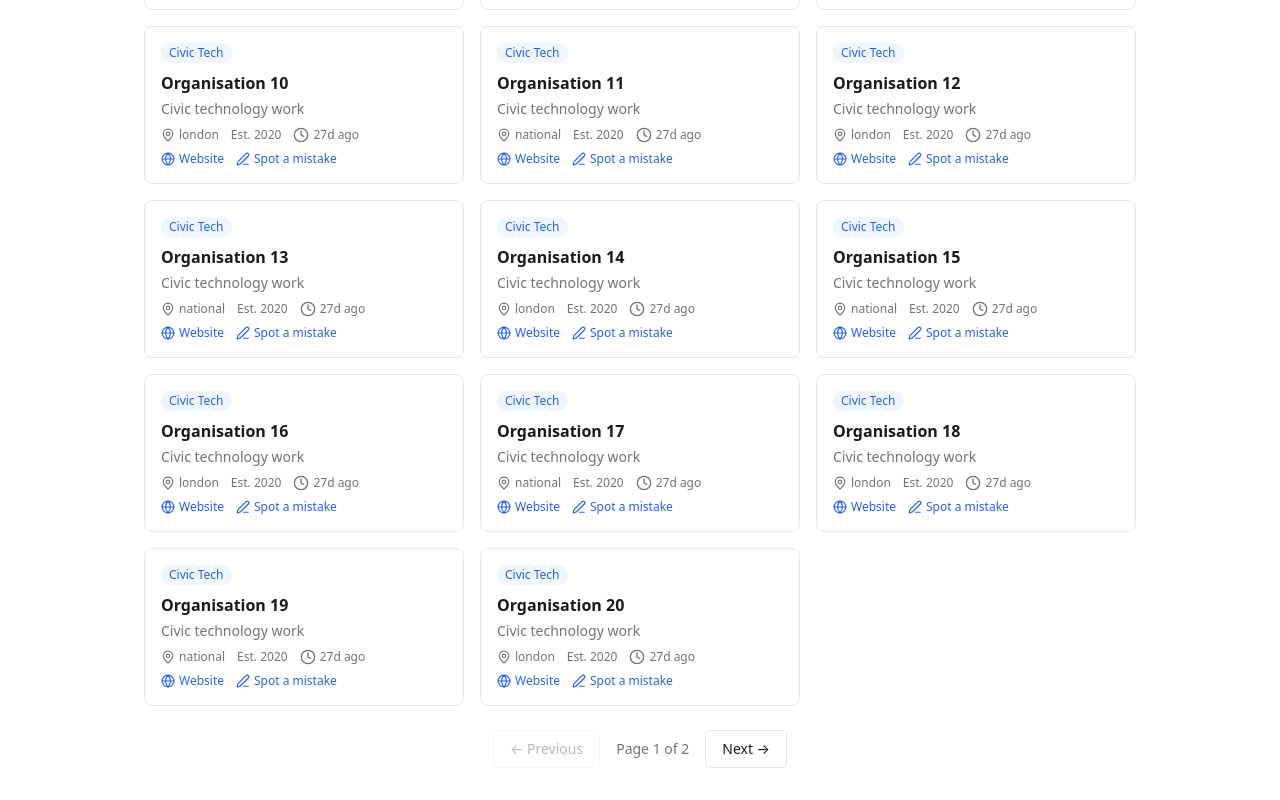
Test case: DirectoryClient › clamps a page that is now beyond the filtered results
(page scrolled)
Expected: the text "Page 1 of 2" is shown, [616,739,689,759]
Click the button "Next →" at [746, 749], box [705,730,787,768]
(page scrolled)
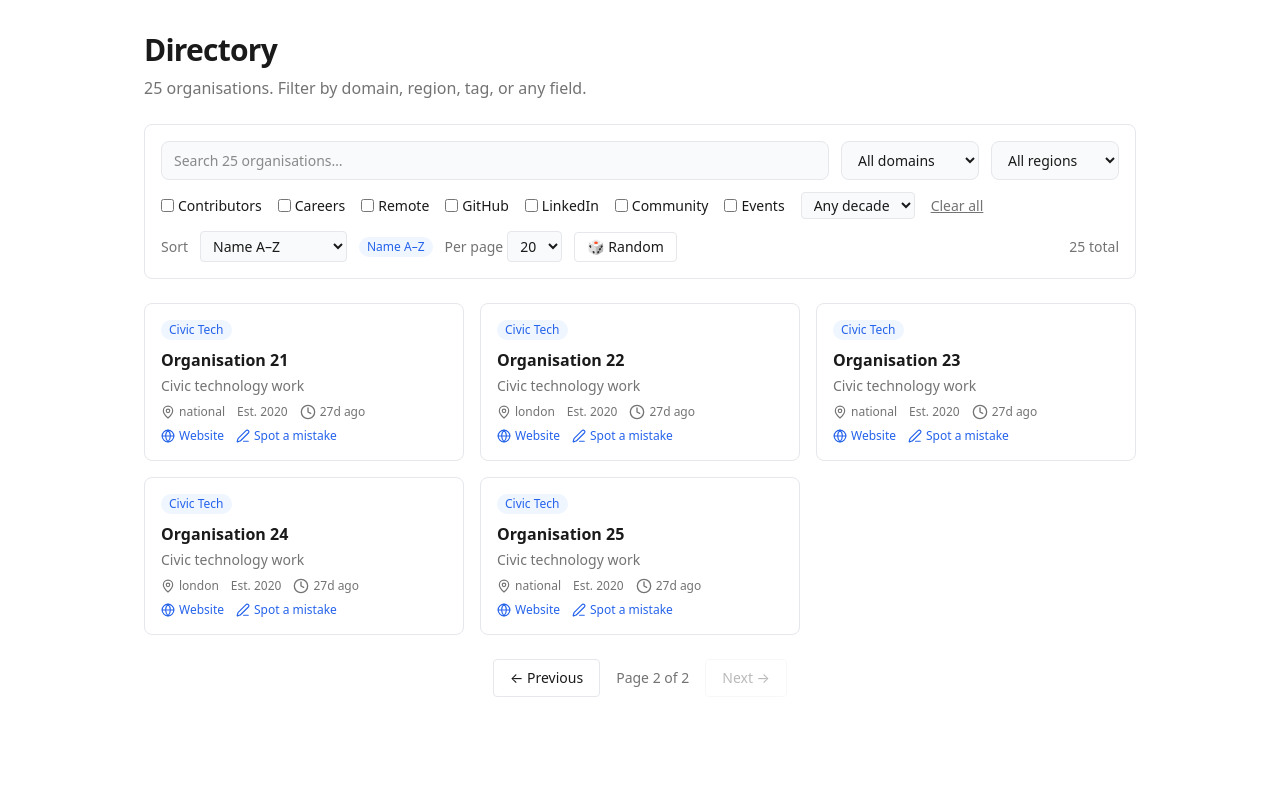
Result: the text "Page 2 of 2" is shown at [616,668,689,688]
Type "Organisation 01" into the search field named "Search entries" at [495, 160], box [161,141,829,180]
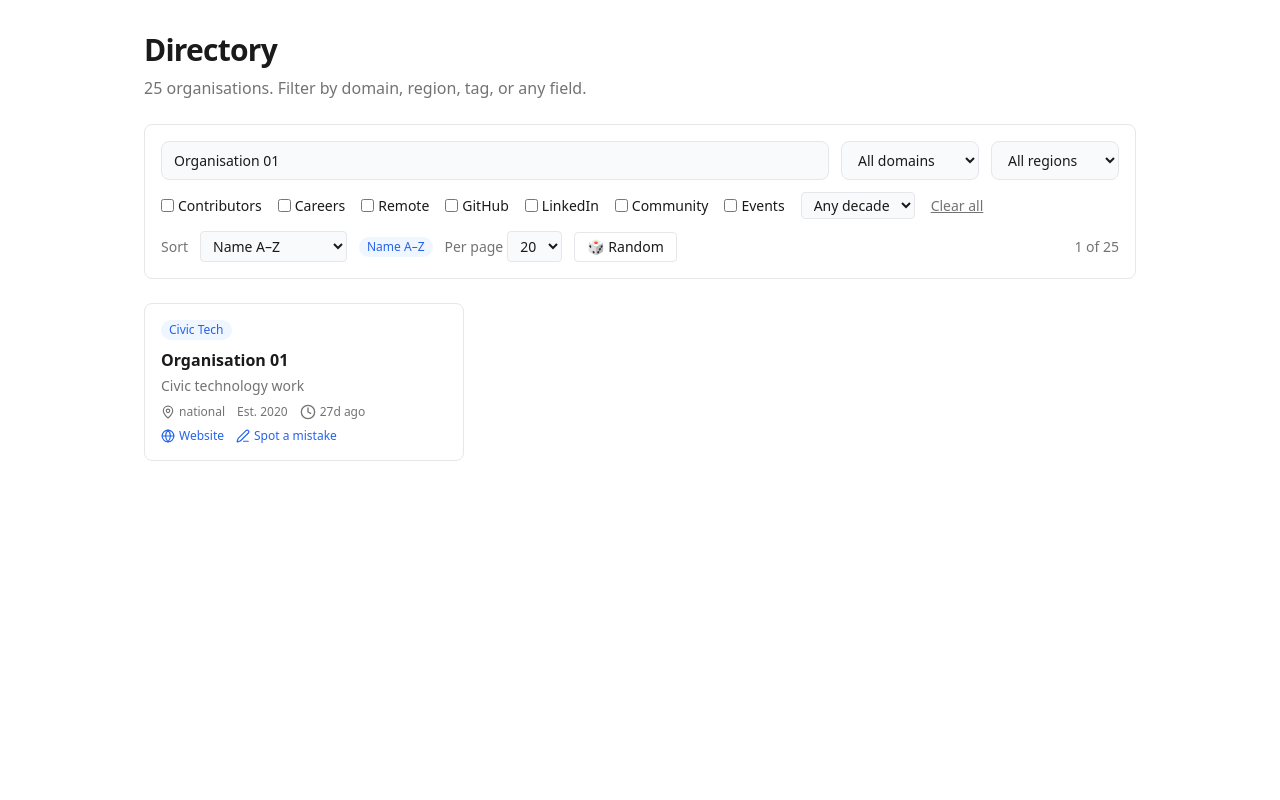
Result: the text "1 of 25" is shown at [1074,236,1119,256]
Result: the text "Page 2 of 2" is gone
